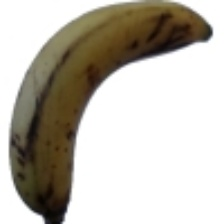banana: (39, 33, 175, 183)
